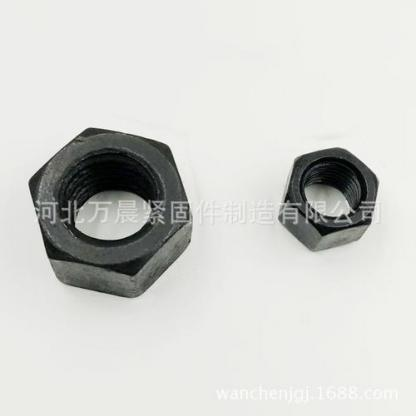FOD: (27, 124, 192, 298), (276, 144, 383, 252)
